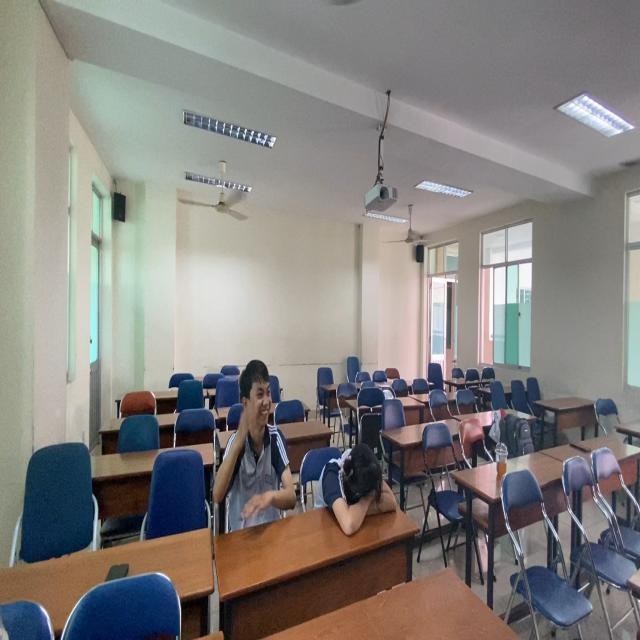sleep: (317, 441, 404, 543)
